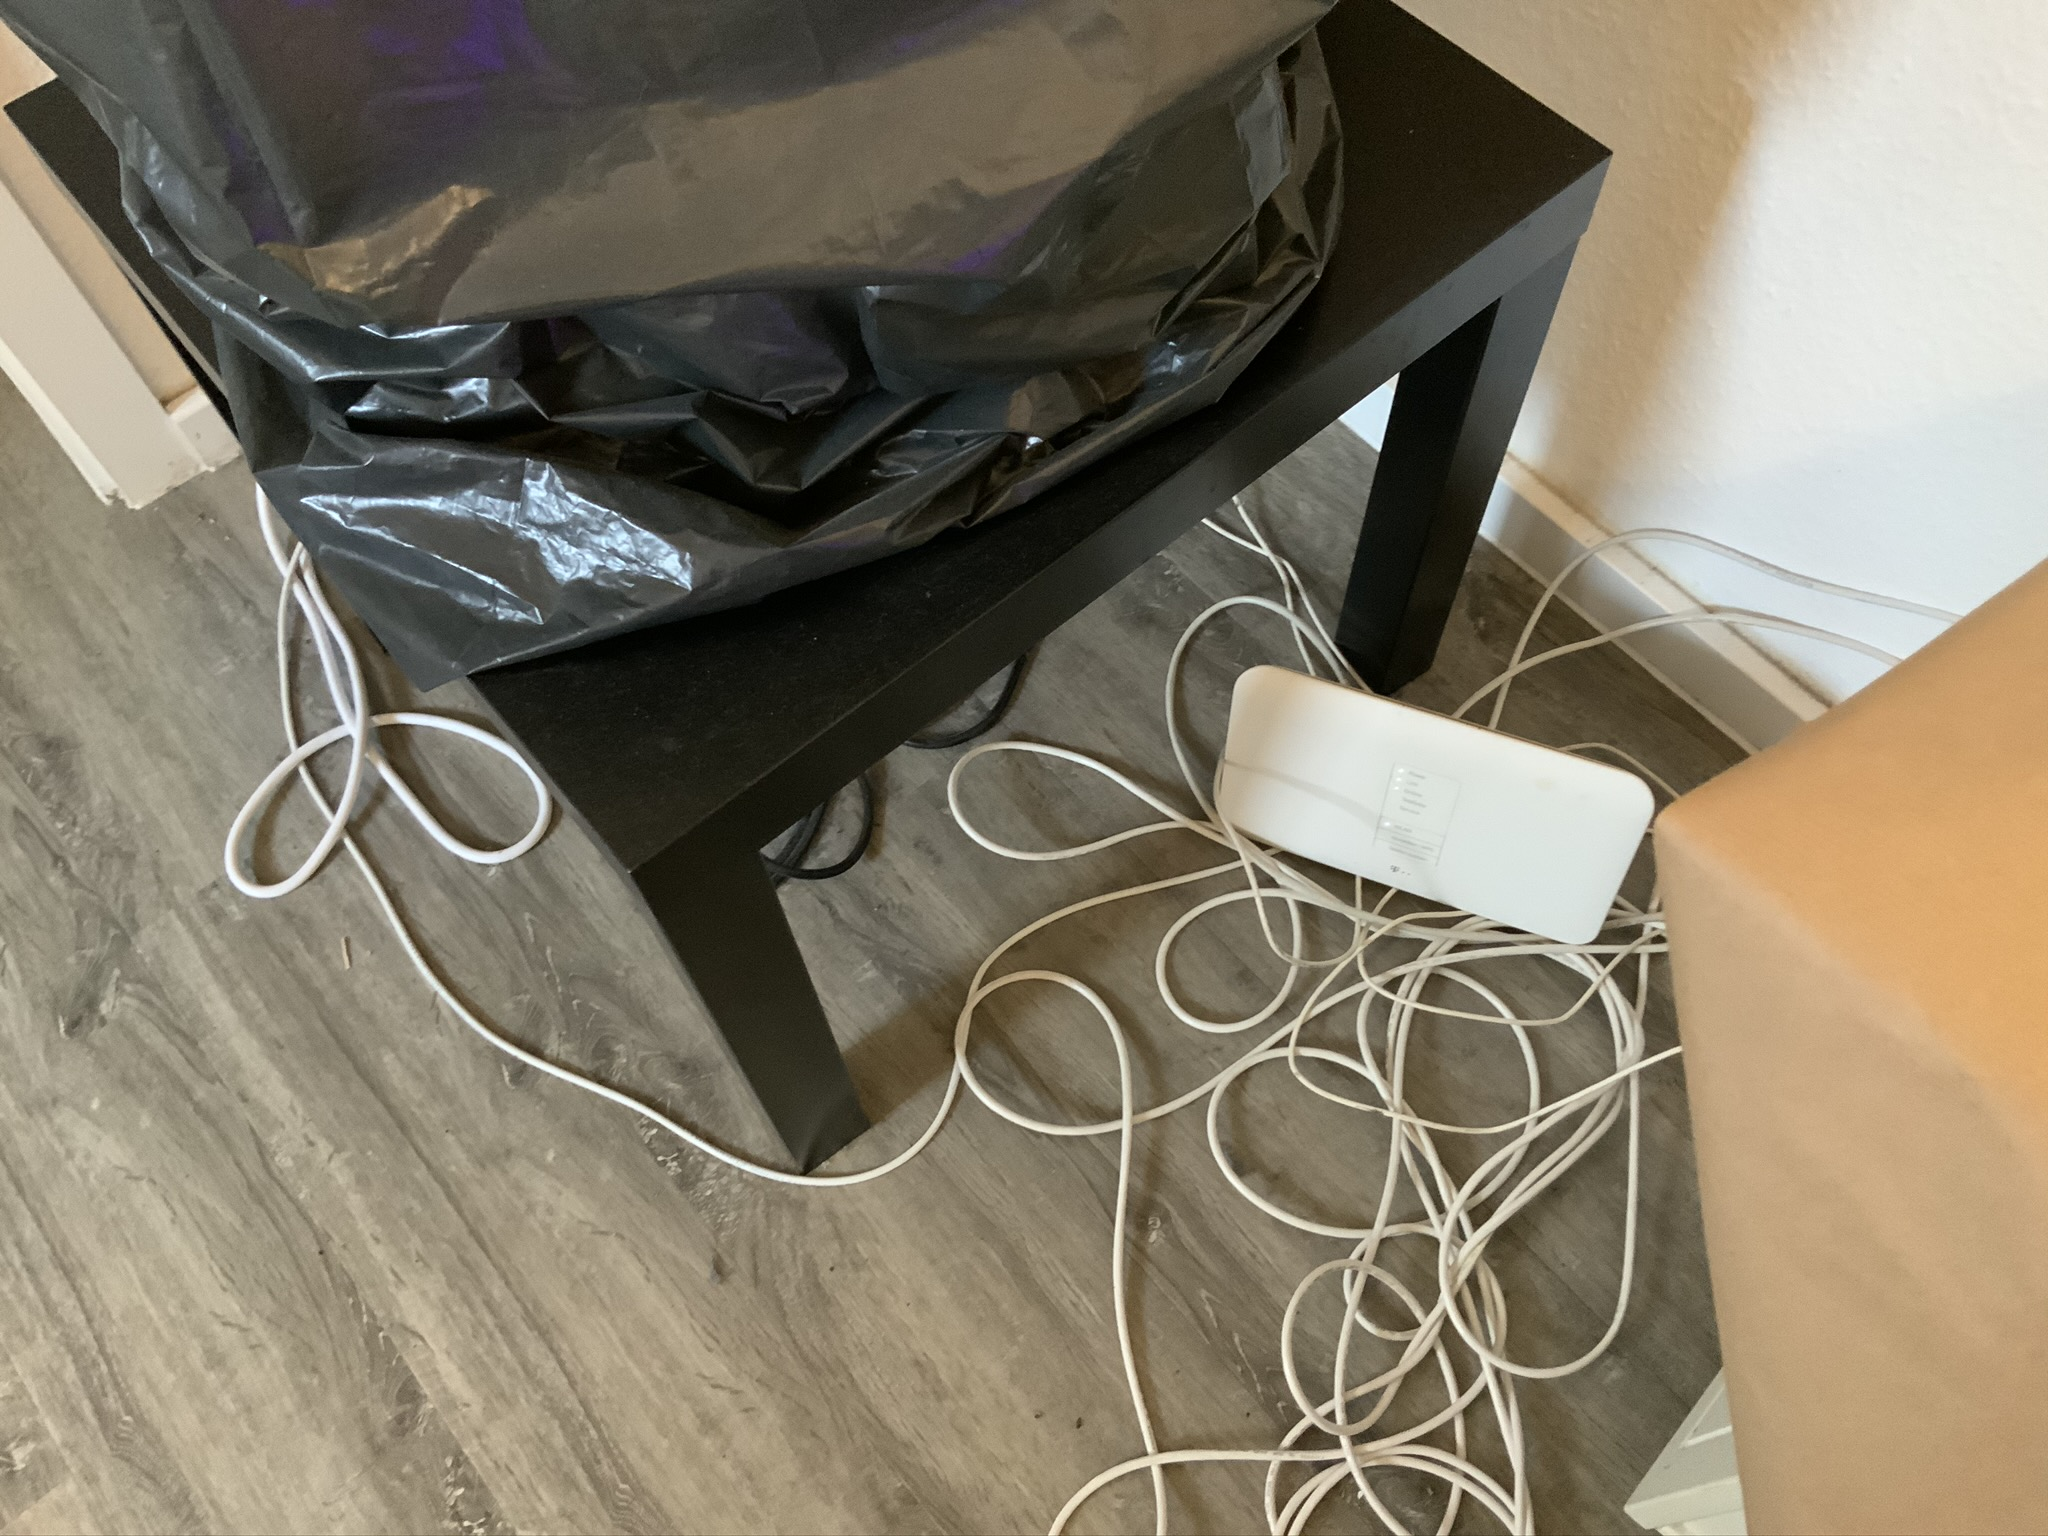router: (1198, 658, 1659, 955)
